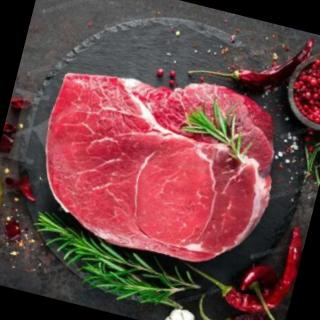Daging Sapi: (28, 50, 293, 278)
